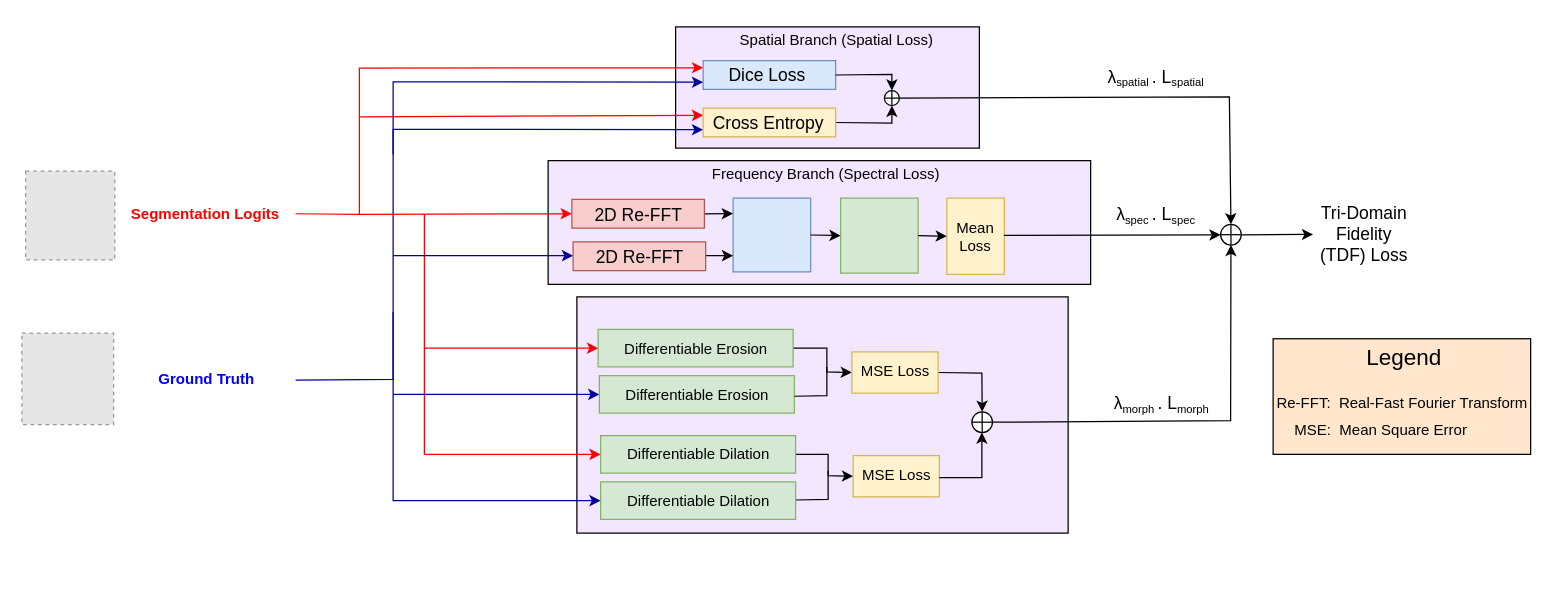
Some shapes in this 1555 by 590 pixel diagram are drawn without their labels. Grey dashed boxes stand in for pictures. Here are the shapes that lost their labels. From the top down, the centre of each, then its label:
At point (771, 234): "Squared Difference".
At point (878, 235): "Focal Weighting".
